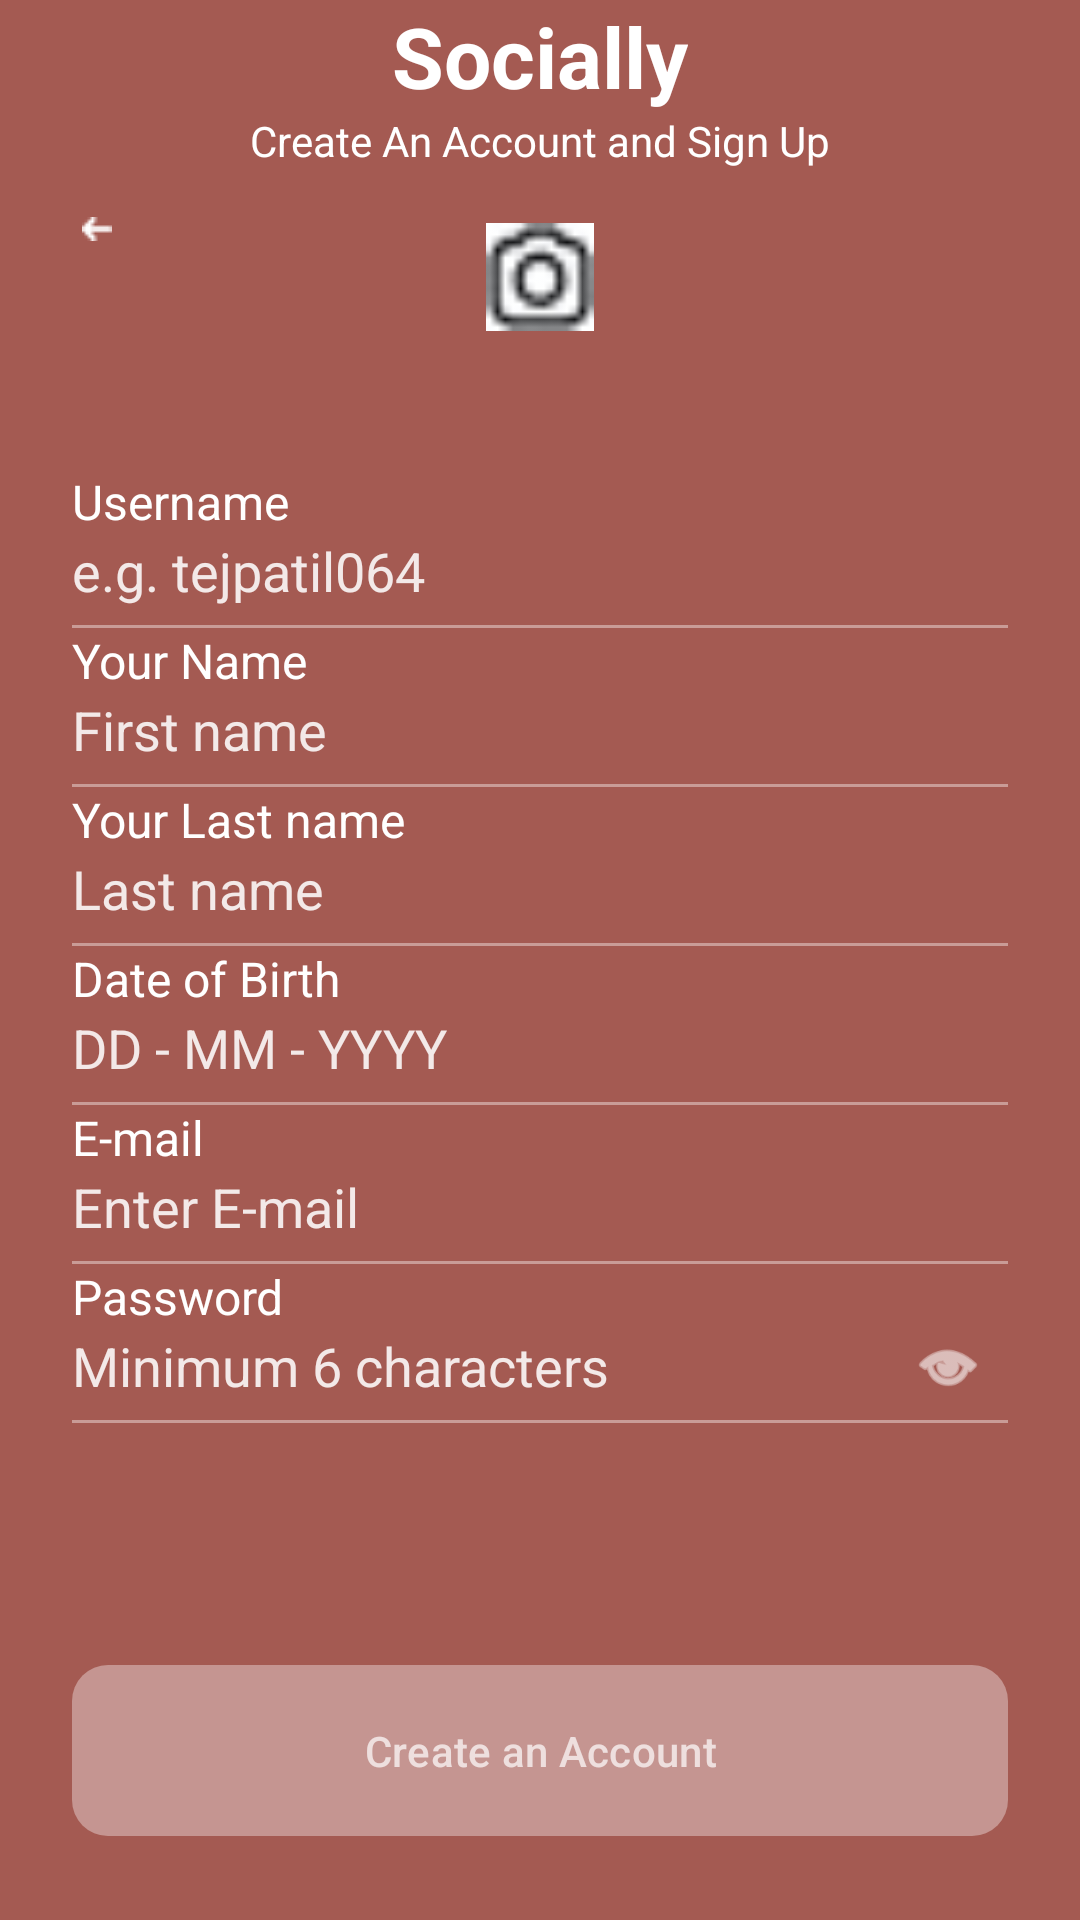

Screen size 1080px×1920px. Icon name, then its box in pixels as (x1, y1, x2, y2):
camera: (486, 223, 594, 331)
